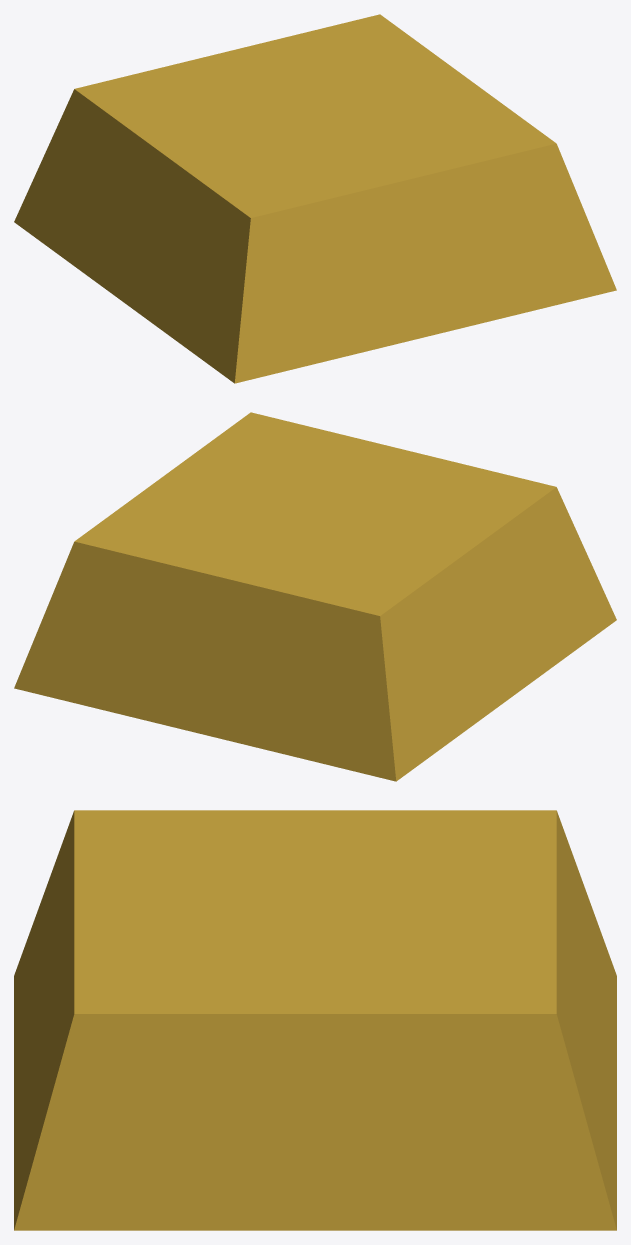
The model's file is GH_Cushion_01.glb.
3 views of the same model, one above another, from view 1: azimuth 30°, elevation 25°; view 2: azimuth 150°, elevation 25°; view 3: azimuth 270°, elevation 25° (orthographic). The views are drawn at different scales.
Parts seen in each view (by area): view 1: GH_Cushion_01; view 2: GH_Cushion_01; view 3: GH_Cushion_01.
Boxes of the visible parts, bbox=[...] form: GH_Cushion_01: bbox=[14, 14, 616, 383]; GH_Cushion_01: bbox=[14, 412, 616, 781]; GH_Cushion_01: bbox=[14, 810, 616, 1230].
Size of the model in its own units: 0.4 by 0.14 by 0.4.
1 material, 1 textured.
